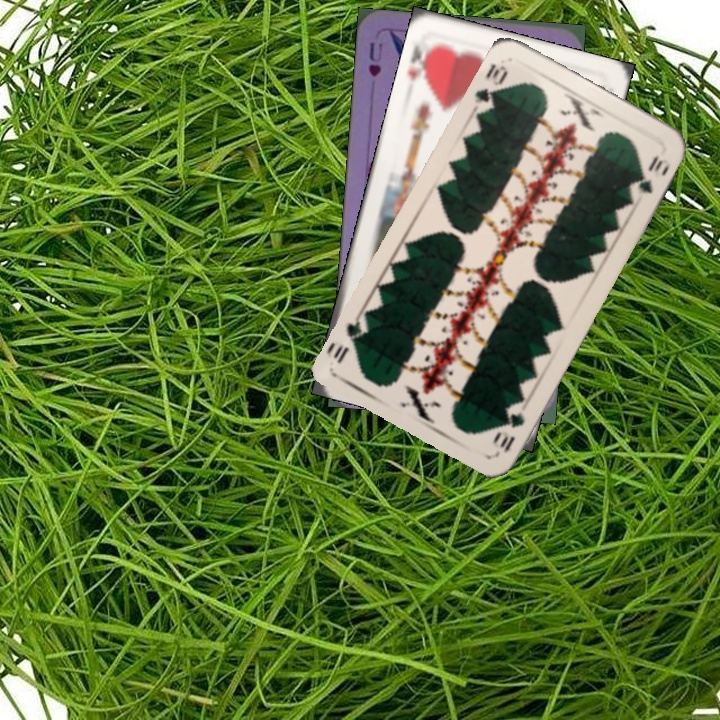G10: (470, 59, 511, 115), (495, 408, 527, 455)
HK: (404, 40, 439, 89)
HU: (364, 37, 386, 79)
